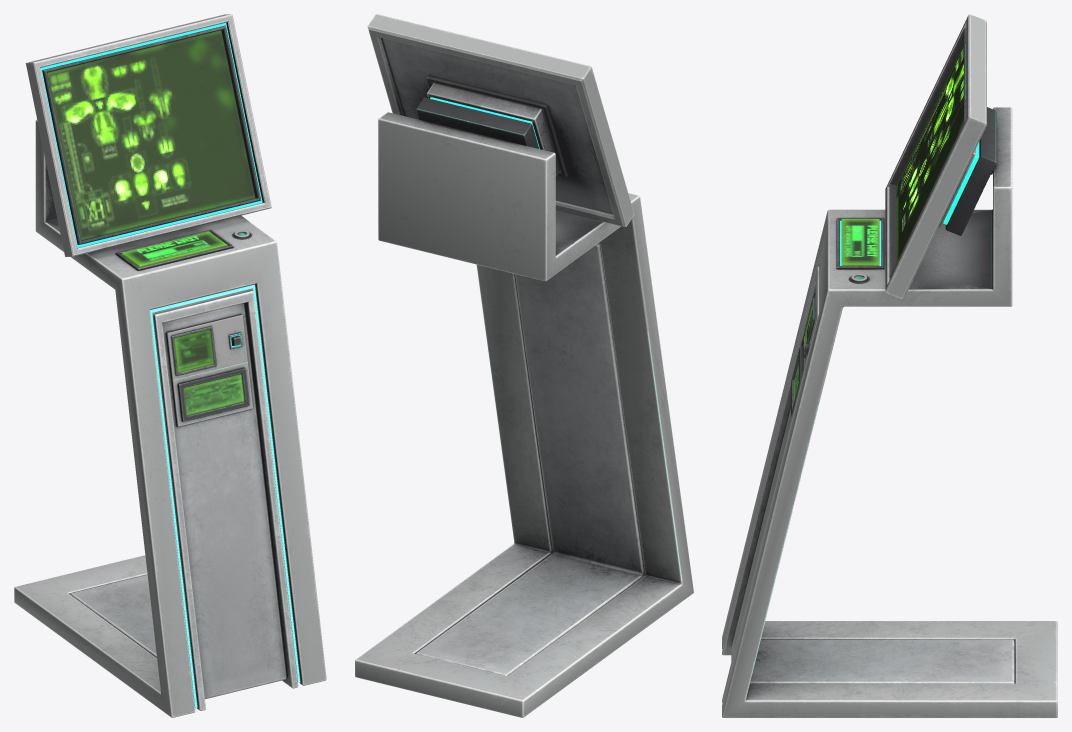
File: pantalla.glb
The picture shows the model from 3 angles, left to right: view 1: azimuth 30°, elevation 25°; view 2: azimuth 150°, elevation 25°; view 3: azimuth 270°, elevation 25°; orthographic projection. The views are drawn at different scales.
Parts seen in each view (by area): view 1: Object_22; view 2: Object_22; view 3: Object_22.
Part boxes in pixels (x1,y1,x2,y2): Object_22: (14,14,326,717); Object_22: (355,14,693,717); Object_22: (722,14,1057,717).
Size of the model in its own units: 0.4463 by 1.23 by 0.6129.
1 material, 1 textured.
